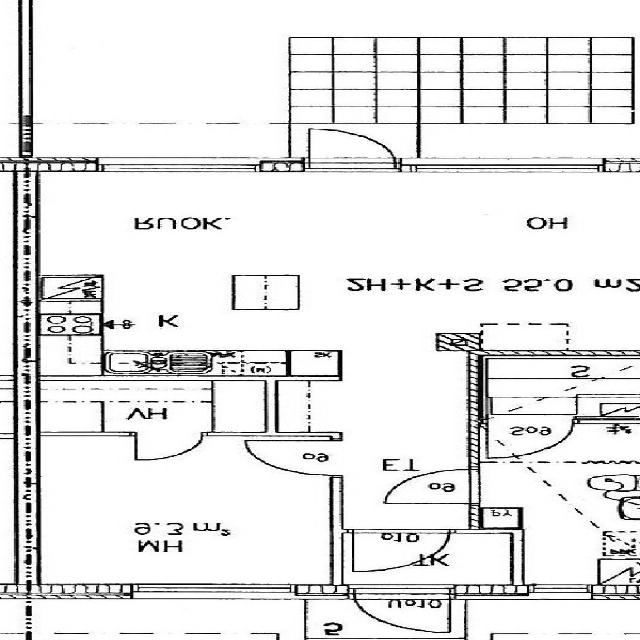door: (355, 584, 450, 638), (310, 122, 395, 172), (354, 528, 449, 572), (487, 415, 574, 458), (382, 468, 481, 504), (243, 440, 344, 475), (136, 431, 202, 462)
